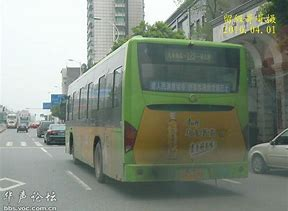smoke: (129, 162, 243, 211)
